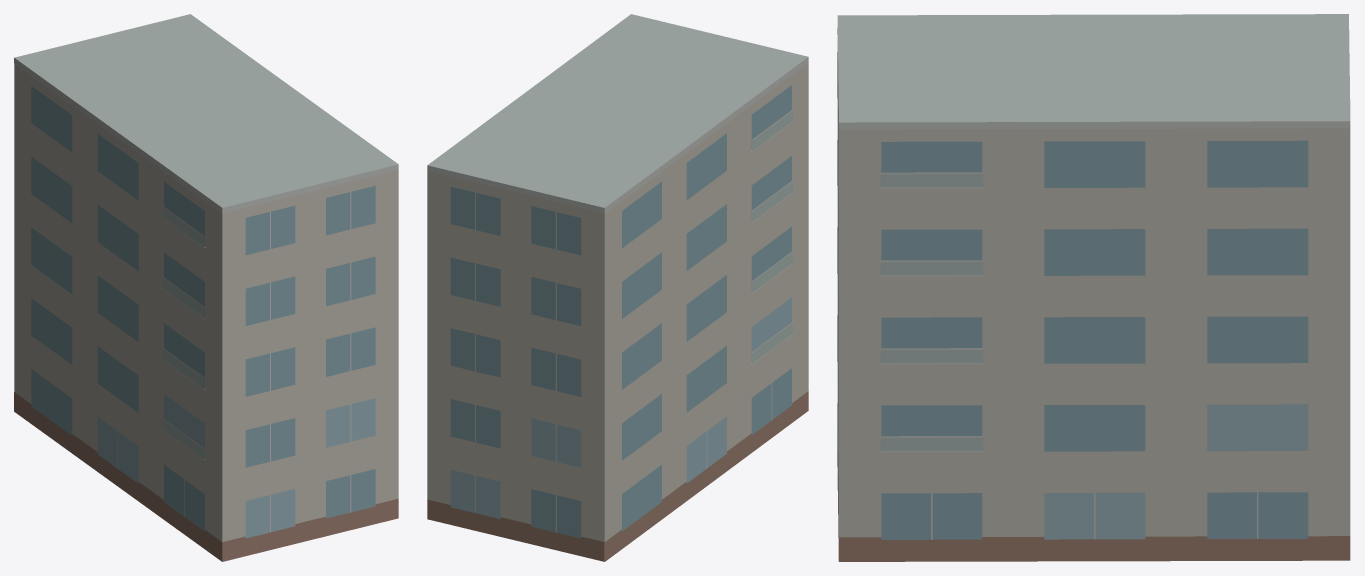
File: survey-upis-32610834.glb
3 views of the same model, side by side, from view 1: azimuth 30°, elevation 25°; view 2: azimuth 150°, elevation 25°; view 3: azimuth 270°, elevation 25° (orthographic). The views are drawn at different scales.
Visible parts, largest first — view 1: survey-upis-32610834.tmp; view 2: survey-upis-32610834.tmp; view 3: survey-upis-32610834.tmp.
Part boxes in pixels (x1=…): survey-upis-32610834.tmp: x1=14, y1=14, x2=398, y2=561; survey-upis-32610834.tmp: x1=427, y1=14, x2=808, y2=561; survey-upis-32610834.tmp: x1=837, y1=14, x2=1350, y2=561.
Bounding box in the file's own units: 7.95 × 14.95 × 15.83.
